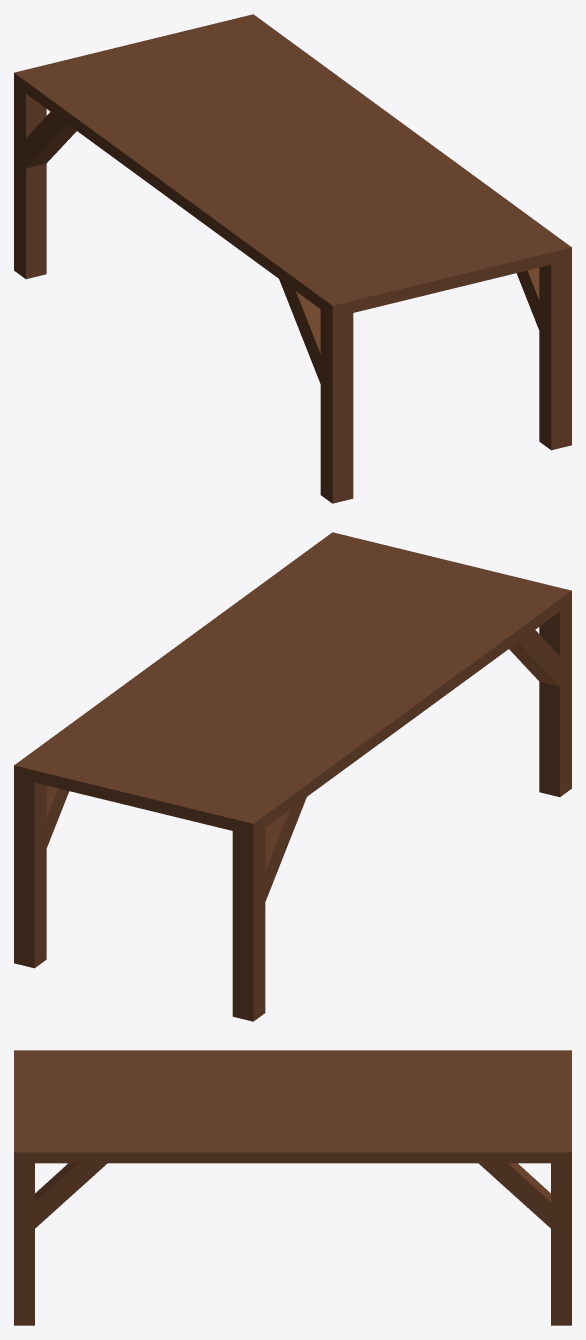
The model's file is GrandeTable_13.fbx.
3 views of the same model, one above another, from view 1: azimuth 30°, elevation 25°; view 2: azimuth 150°, elevation 25°; view 3: azimuth 270°, elevation 25° (orthographic). The views are drawn at different scales.
Visible parts, largest first — view 1: pCube54, pCube52, pCube53, pCube50, pCube60, pCube56, pCube55; view 2: pCube54, pCube50, pCube51, pCube52, pCube60, pCube56, pCube59; view 3: pCube54, pCube51, pCube53, pCube55, pCube59.
Boxes of the visible parts, x1,y1,x2,y2 form: pCube54: (14,14,571,317); pCube52: (320,309,353,503); pCube53: (539,259,571,450); pCube50: (14,84,46,279); pCube60: (24,110,76,169); pCube56: (279,279,320,383); pCube55: (516,267,540,332); pCube54: (14,532,571,835); pCube50: (232,827,265,1021); pCube51: (14,777,46,968); pCube52: (539,602,571,797); pCube60: (264,794,307,904); pCube56: (509,630,559,686); pCube59: (45,785,69,851); pCube54: (14,1050,571,1163); pCube51: (551,1162,571,1325); pCube53: (14,1162,34,1325); pCube55: (33,1161,109,1229); pCube59: (477,1161,550,1228).
Bounding box in the file's own units: 50.24 × 39.67 × 116.
